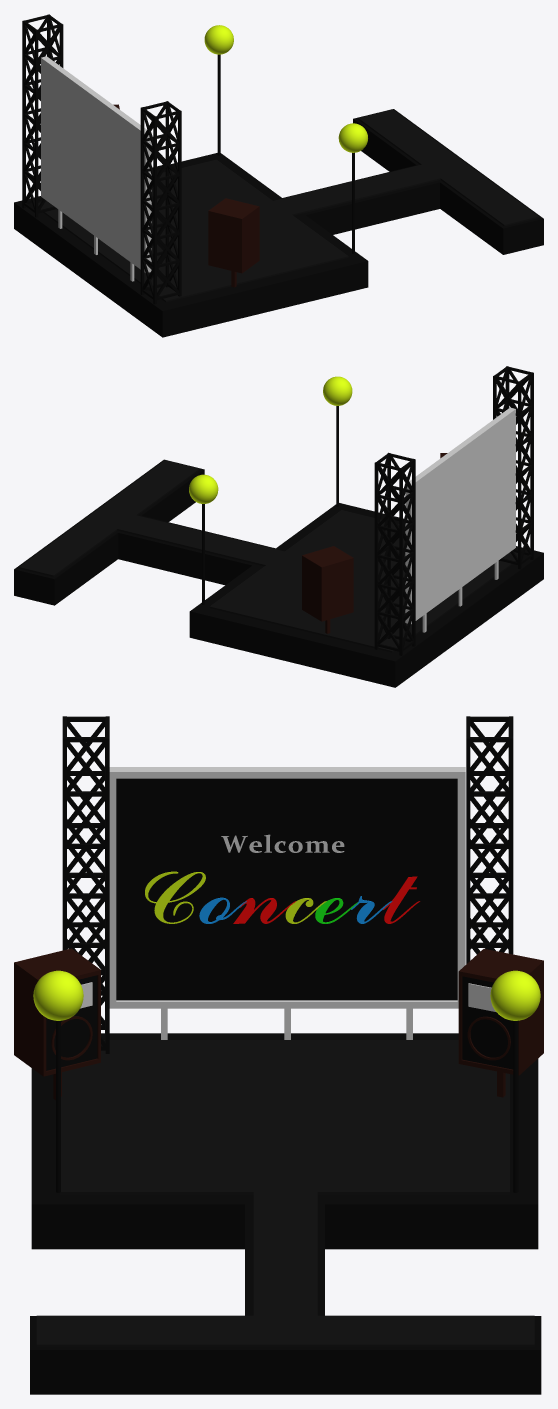
Rendered from Concert.obj.
3 views of the same model, one above another, from view 1: azimuth 30°, elevation 25°; view 2: azimuth 150°, elevation 25°; view 3: azimuth 270°, elevation 25° (orthographic). The views are drawn at different scales.
Visible parts, largest first — view 1: Box209, Box184, Box204, Box206, Box188, Box187, Box203, Box202, Box208, Box194, Box221, Box223 (+5 smaller); view 2: Box209, Box184, Box204, Box206, Box188, Box187, Box202, Box201, Box185, Box179, Box208, Sphere003 (+4 smaller); view 3: Object002, Box204, Box184, Box188, Box206, Box209, Box202, Box203, Box201, Text004, Box187, Sphere003 (+8 smaller).
Part boxes in pixels (x1,y1,x2,y2): Box209: (41,56,151,272); Box184: (14,153,368,337); Box204: (38,159,348,302); Box206: (358,109,538,226); Box188: (353,109,543,254); Box187: (283,165,442,234); Box203: (208,198,259,273); Box202: (255,161,450,215); Box208: (140,107,144,294); Box194: (35,29,38,217); Box221: (153,116,156,304); Box223: (178,110,181,296); Box209: (405,407,515,624); Box184: (189,503,543,687); Box204: (209,510,524,652); Box206: (19,460,199,576); Box188: (14,459,204,605); Box187: (118,515,282,585); Box202: (106,513,301,570); Box201: (302,546,353,621); Box185: (374,462,378,649); Box179: (399,468,402,655); Box208: (518,381,521,568); Sphere003: (323,376,352,405); Object002: (116,778,457,1000); Box204: (60,1040,509,1194); Box184: (31,1033,538,1249); Box188: (30,1316,541,1394); Box206: (36,1315,534,1347); Box209: (109,767,465,1008); Box202: (253,1192,317,1325); Box203: (14,948,100,1076); Box201: (458,949,543,1075); Text004: (145,871,419,923); Box187: (245,1194,324,1315); Sphere003: (33,970,83,1020).
Bounding box in the file's own units: 108570 × 58040 × 76834.
